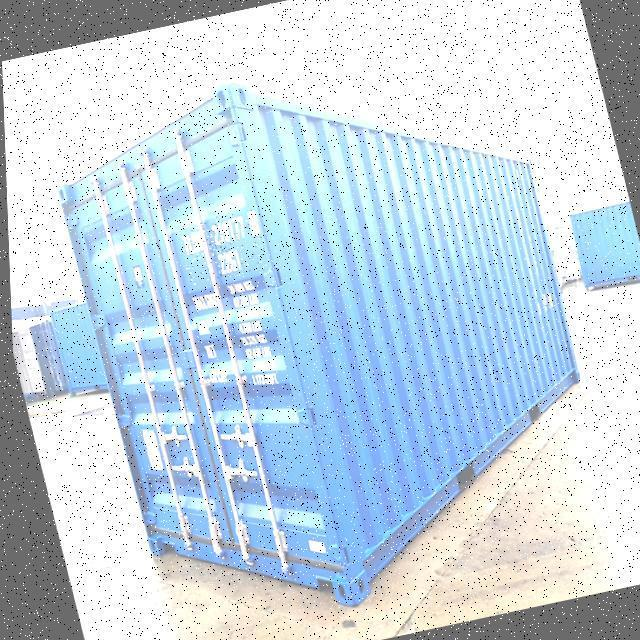container_number_h: (173, 208, 268, 286)
